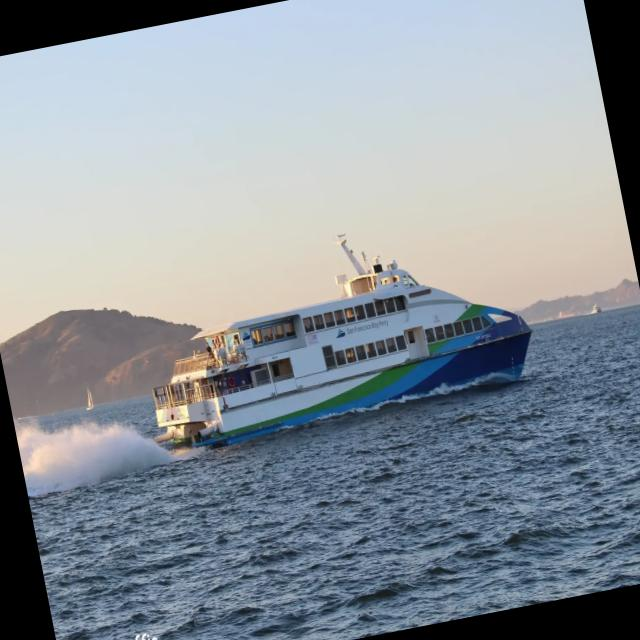Passenger: (153, 239, 531, 446)
